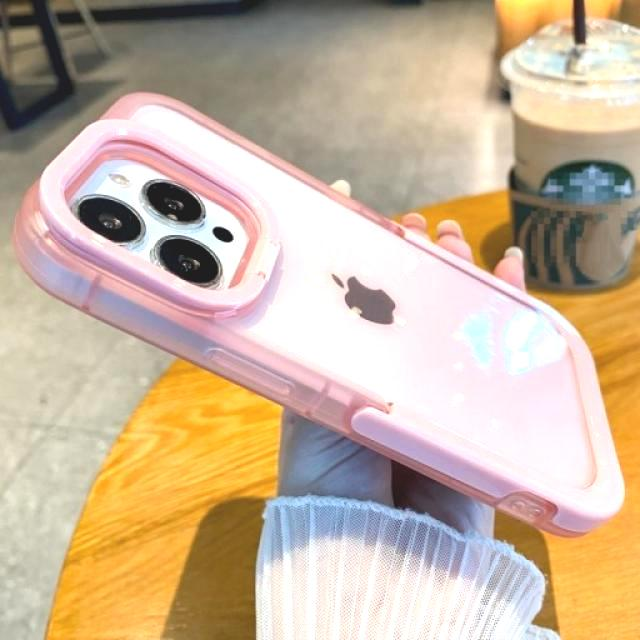lens_back: (72, 192, 148, 250), (149, 234, 223, 292), (136, 178, 209, 230)
phone: (16, 89, 631, 541)
